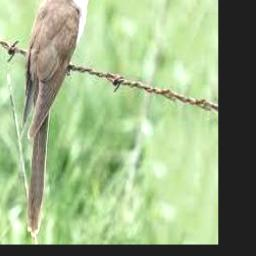Cuckoo: (22, 0, 102, 238)
